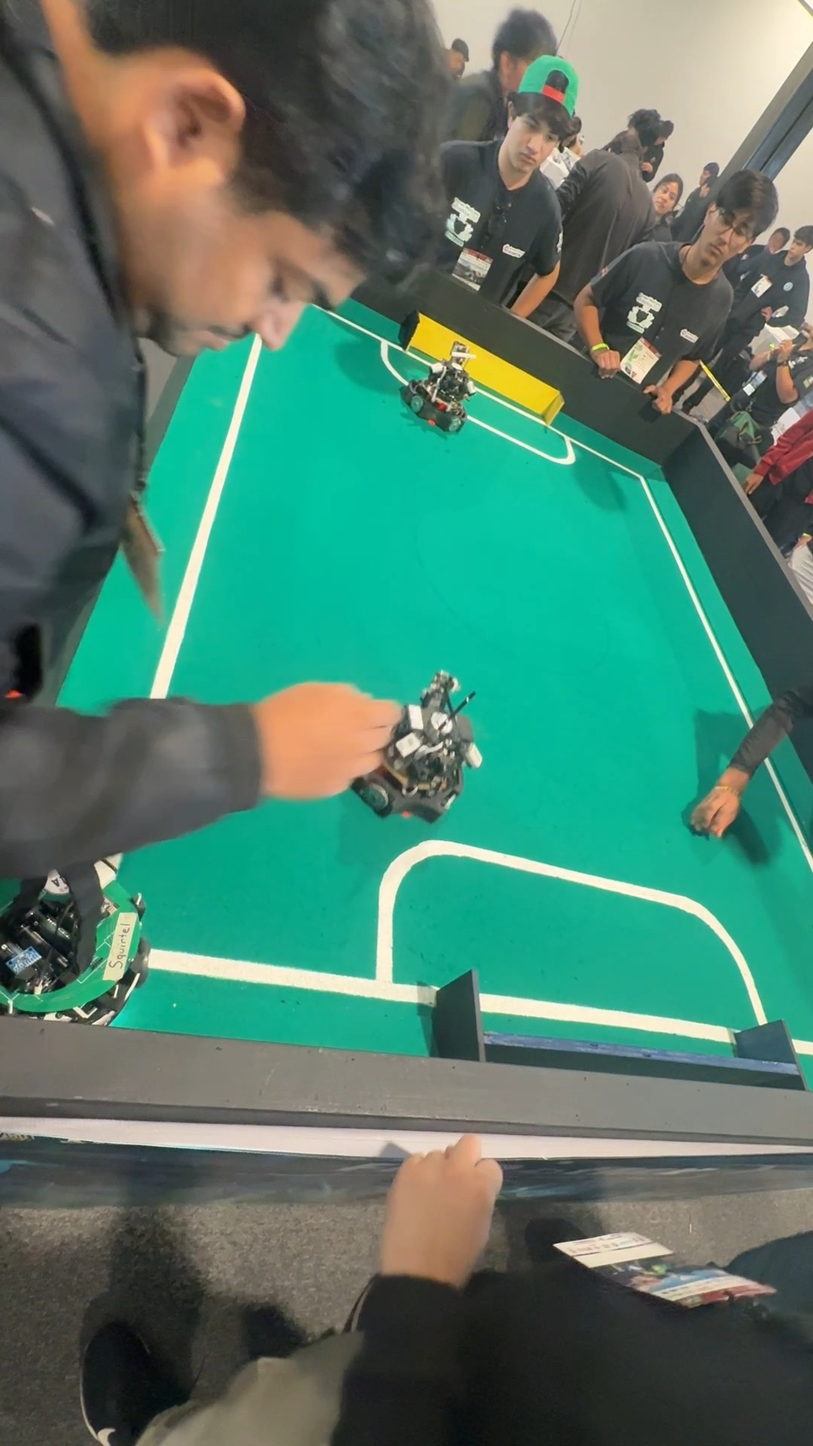Robot: (20, 813, 188, 1044), (360, 655, 482, 827), (420, 339, 476, 440)
